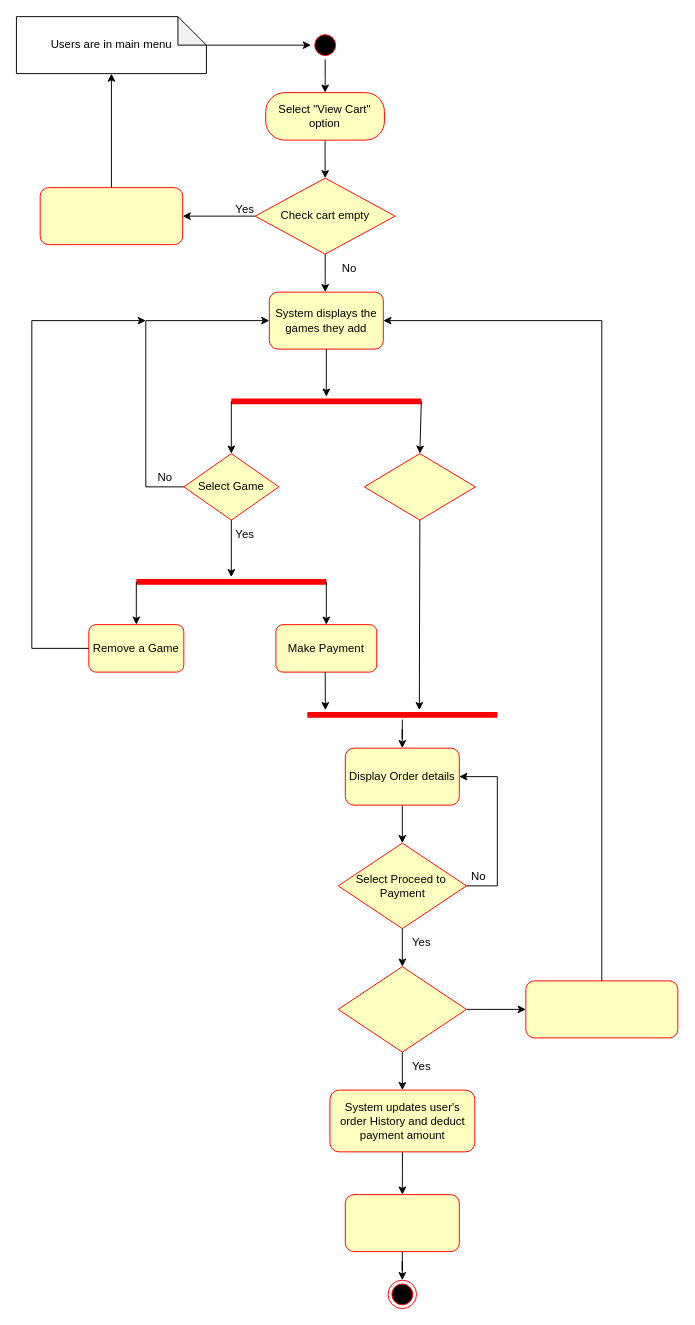
Some shapes in this 695 by 1325 pixel diagram are drawn without their labels. The centre of each missing label's shape, as x and y in pixels:
Check Balance is enough: pixel 401 1009
Display order confirmation: pixel 401 1223
Select Payment All: pixel 419 486
System display message "Your Balance not enough money": pixel 601 1009
System displays message "Your Cart is empty": pixel 111 216
